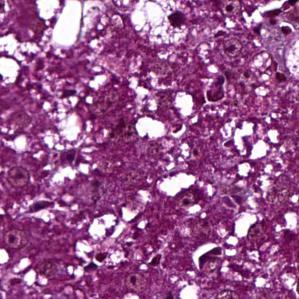ballooning: (127, 0, 194, 48)
